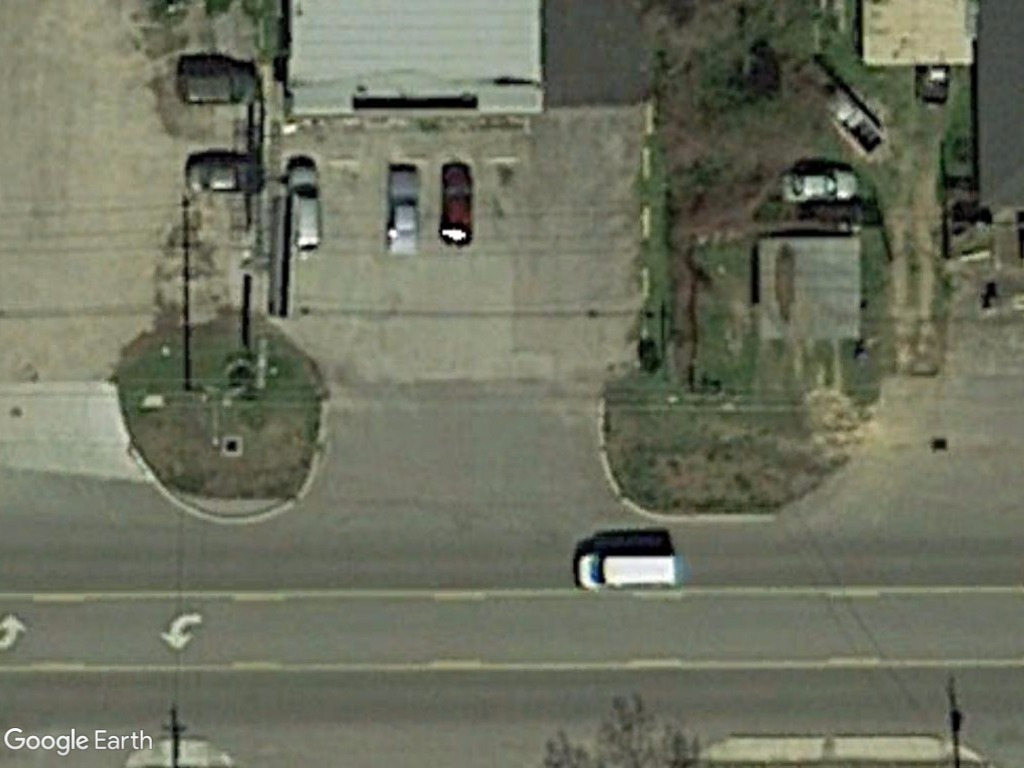car: (279, 157, 328, 261), (378, 165, 427, 261), (436, 155, 482, 251), (176, 156, 269, 202)
van: (572, 543, 687, 595)
